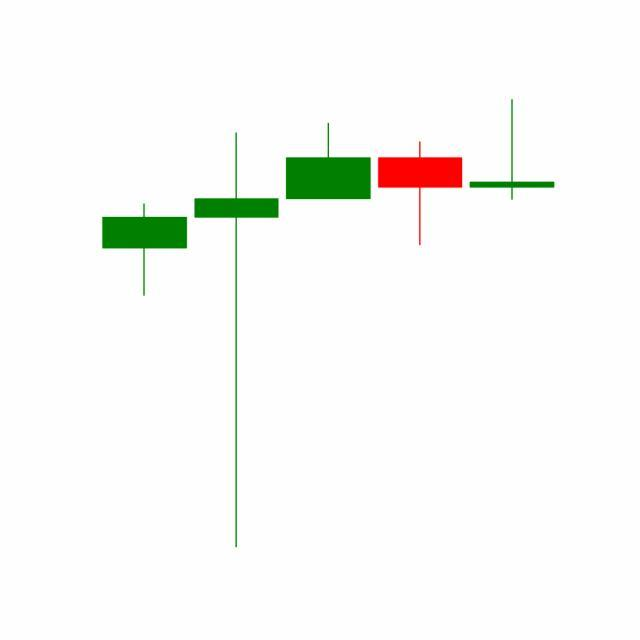Gravestone Doji: (466, 98, 559, 202)
